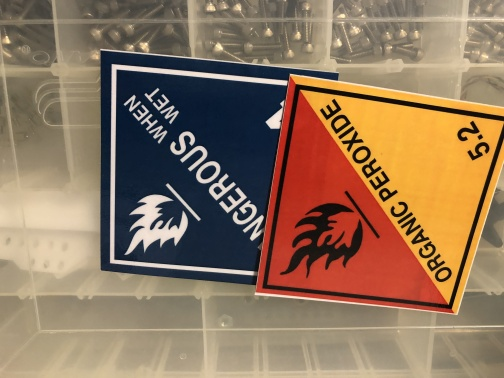DangerousWhenWet: (99, 47, 290, 286)
OrganicPeroxide: (254, 74, 504, 314)
